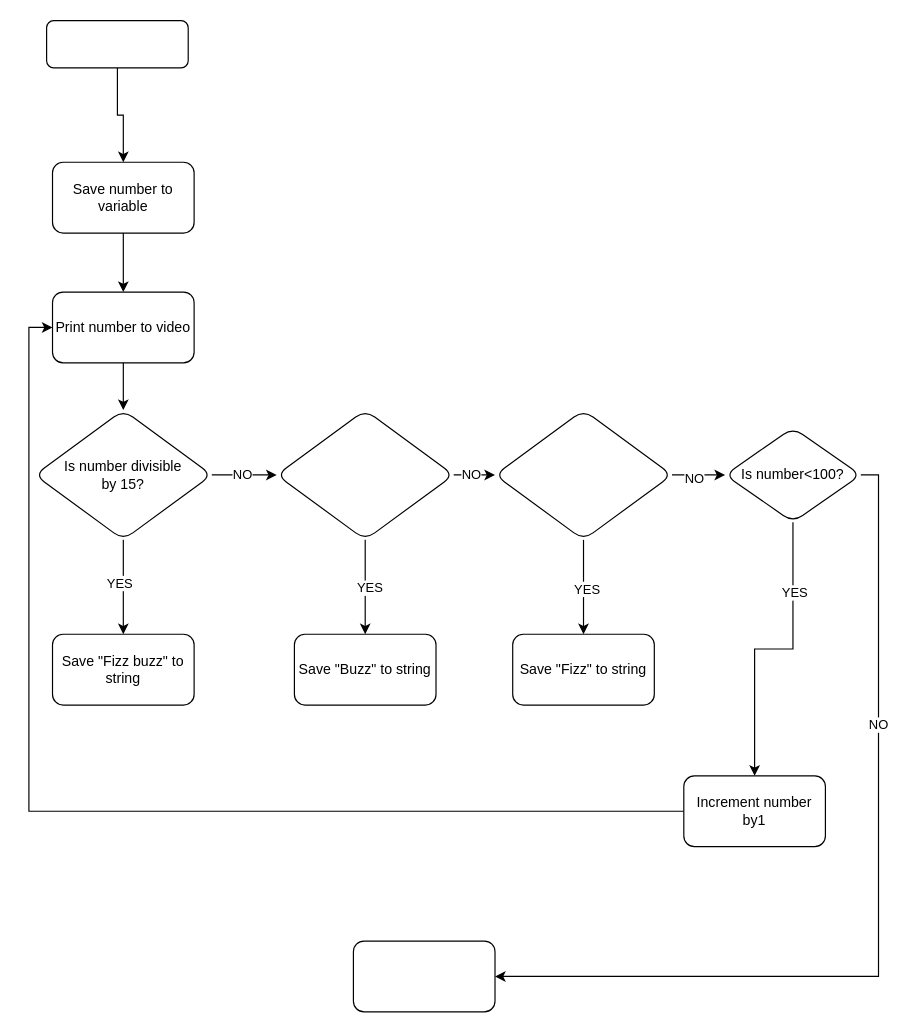
This 909x1033 diagram has some shape labels left out. Each missing label, with the centre of its shape:
"END" belongs at point (423, 976).
"Is number divisible by 3?" belongs at point (583, 474).
"Is number divisible by 5?" belongs at point (365, 474).
"START" belongs at point (116, 43).
